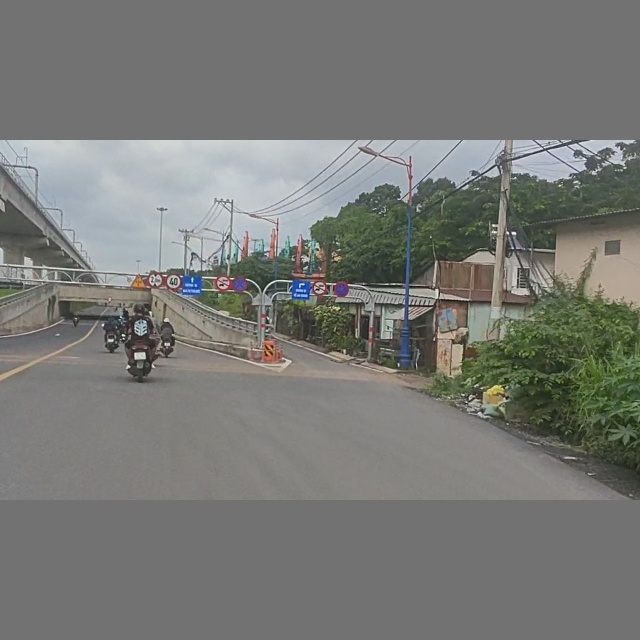P.107: (215, 276, 231, 293), (312, 280, 327, 296)
P.117*: (148, 272, 163, 288)
P.127*40: (166, 274, 182, 289)
P.130: (233, 277, 249, 293), (334, 282, 350, 297)
W.239b*: (130, 273, 148, 289)
